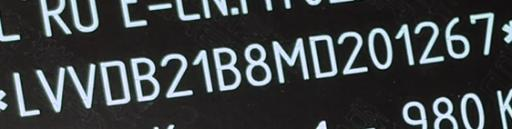letter: (270, 36, 310, 83), (159, 51, 195, 100), (96, 59, 132, 106), (34, 67, 66, 116), (336, 30, 370, 75), (307, 33, 339, 80), (129, 56, 161, 103), (10, 69, 40, 118), (66, 62, 96, 111), (414, 20, 446, 65), (242, 42, 274, 87), (210, 46, 242, 91), (468, 11, 498, 57), (365, 26, 395, 71), (444, 16, 472, 60), (190, 48, 216, 95), (393, 21, 417, 66)
